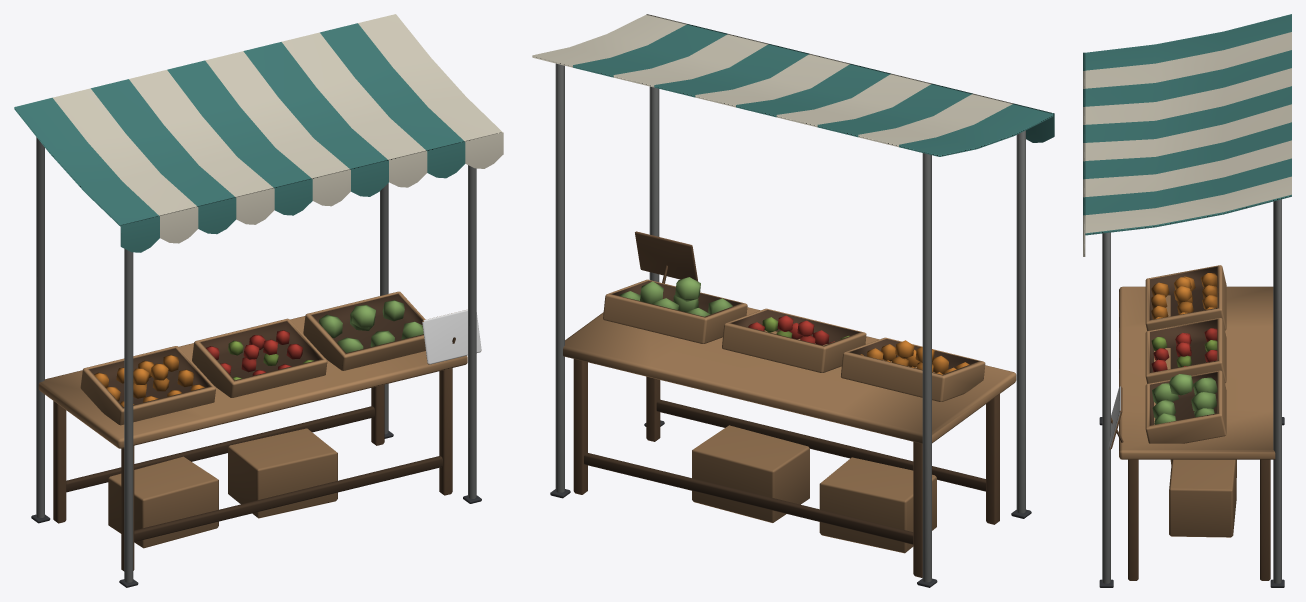
File: MarketStall.fbx
The picture shows the model from 3 angles, left to right: view 1: azimuth 30°, elevation 25°; view 2: azimuth 150°, elevation 25°; view 3: azimuth 270°, elevation 25°; orthographic projection. The views are drawn at different scales.
Parts seen in each view (by area): view 1: MarketStall; view 2: MarketStall; view 3: MarketStall.
Part boxes in pixels (x1,y1,x2,y2): MarketStall: (14,14,503,587); MarketStall: (532,14,1054,587); MarketStall: (1083,14,1291,587).
Bounding box in the file's own units: 2.4 × 2.48 × 1.17.
